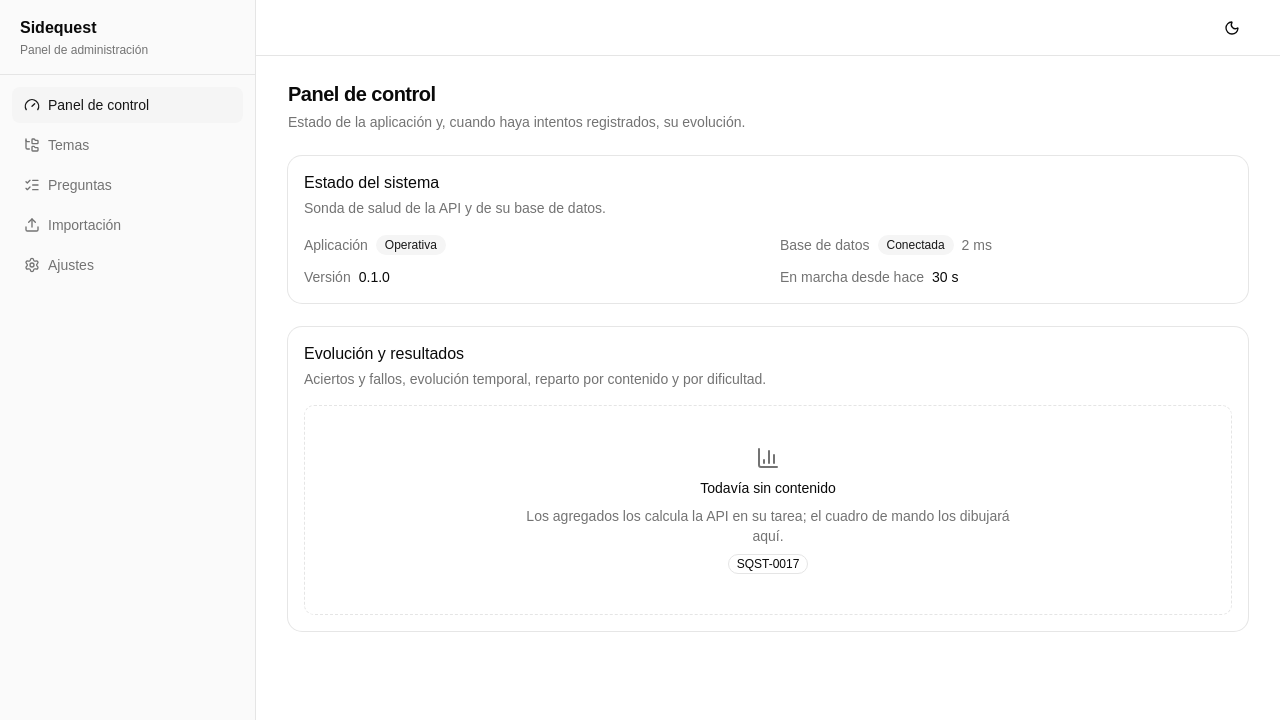
Scenario: rutas del panel › abre las cinco secciones desde la navegación sin recargar la página
Click the link "Panel de control": (128,105) [12, 87, 243, 123]
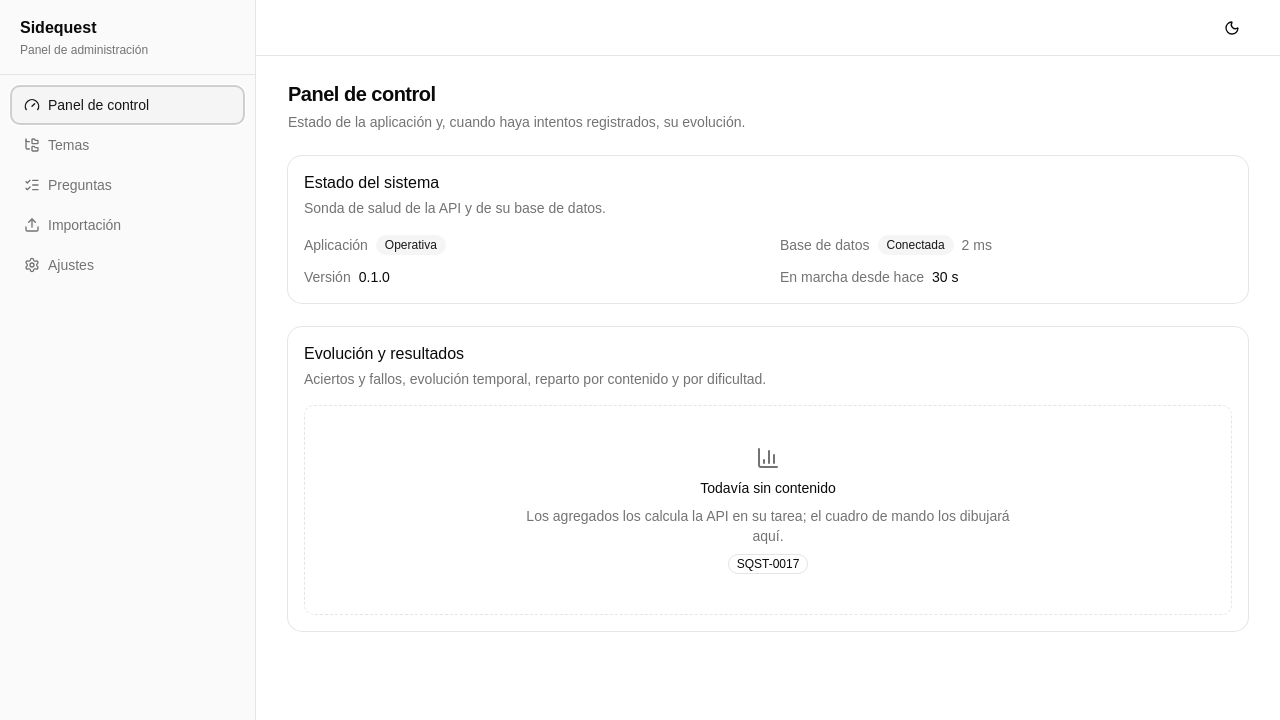
Expected: the heading reads "Panel de control", [288, 83, 436, 105]
Click the link "Temas": (57,145) [24, 137, 89, 153]
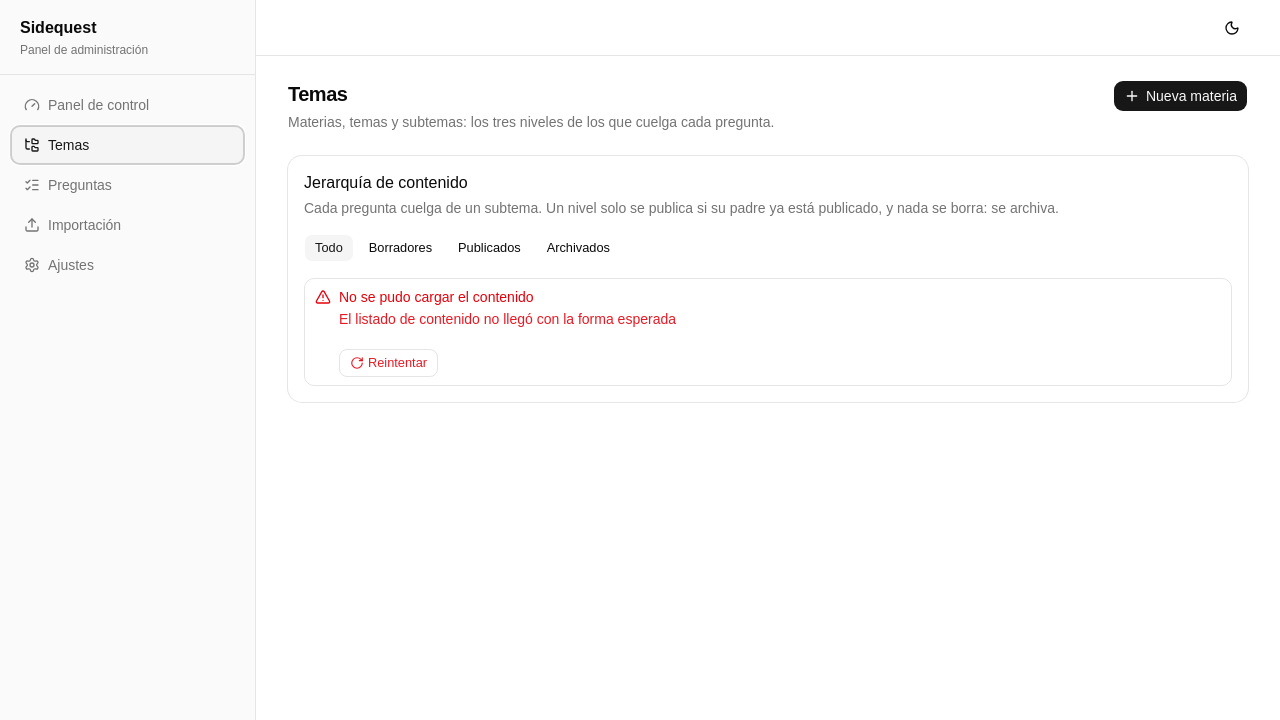
Expected: the heading reads "Temas", [288, 83, 347, 105]
Click the link "Preguntas": (68,185) [24, 177, 112, 193]
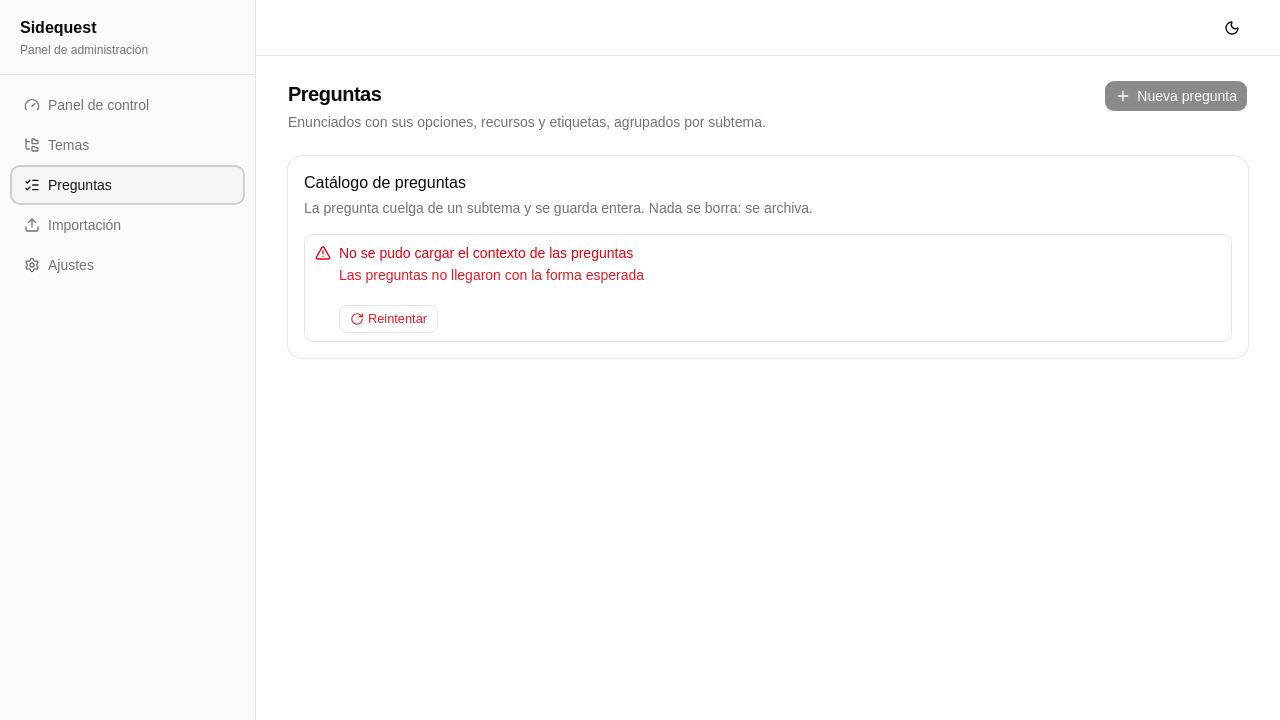
Expected: the heading reads "Preguntas", [288, 83, 381, 105]
Click the link "Importación": (73,225) [24, 217, 121, 233]
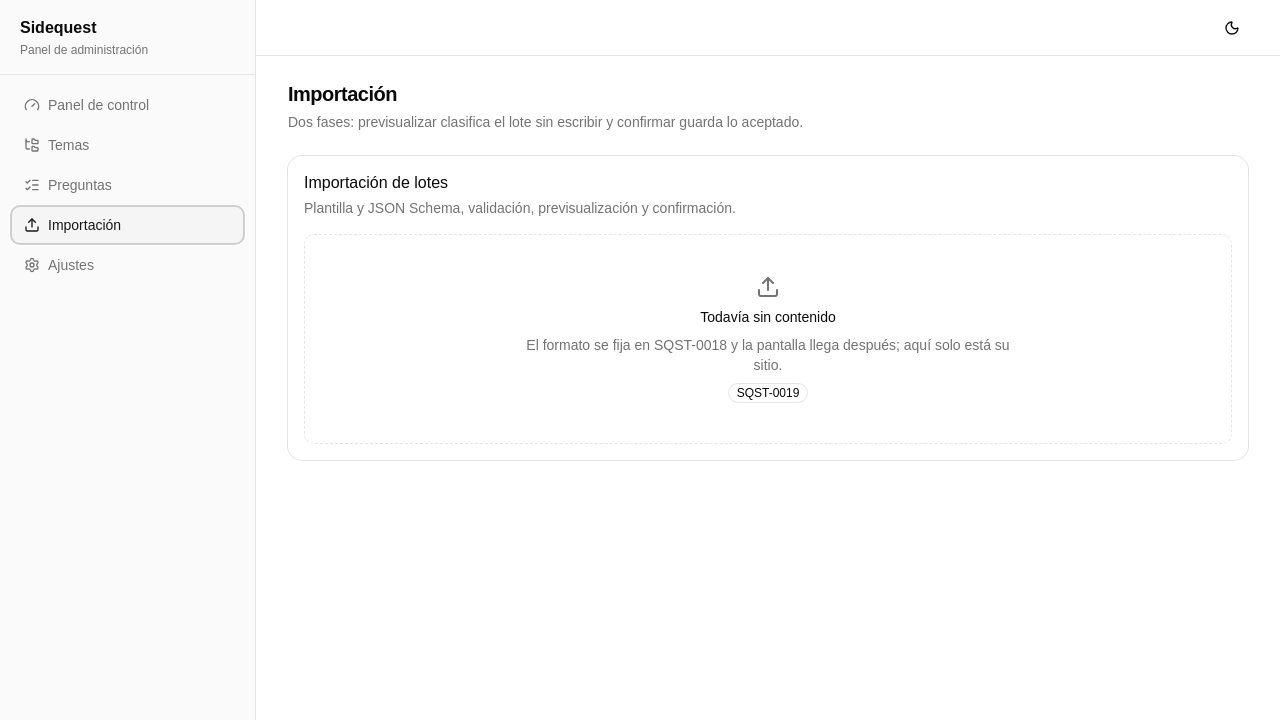
Expected: the heading reads "Importación", [288, 83, 397, 105]
Click the link "Ajustes": (59,265) [24, 257, 94, 273]
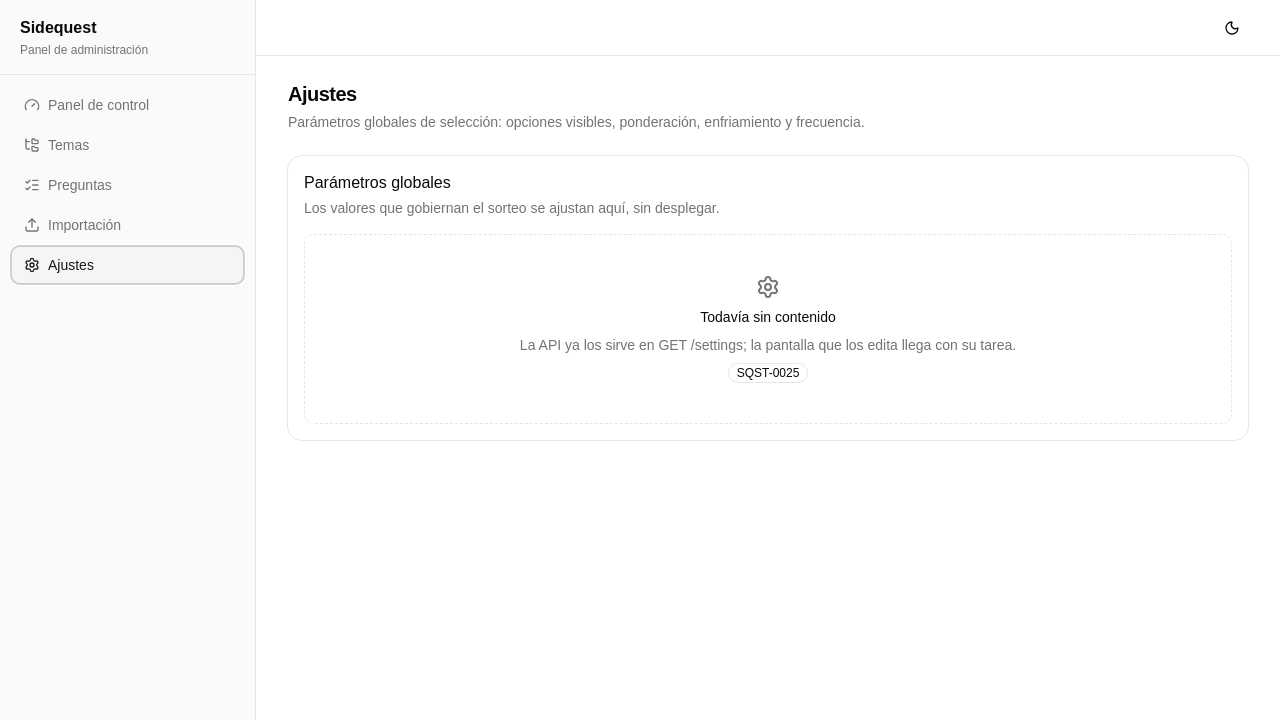
Expected: the heading reads "Ajustes", [288, 83, 357, 105]
